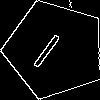I: (30, 25, 70, 70)
